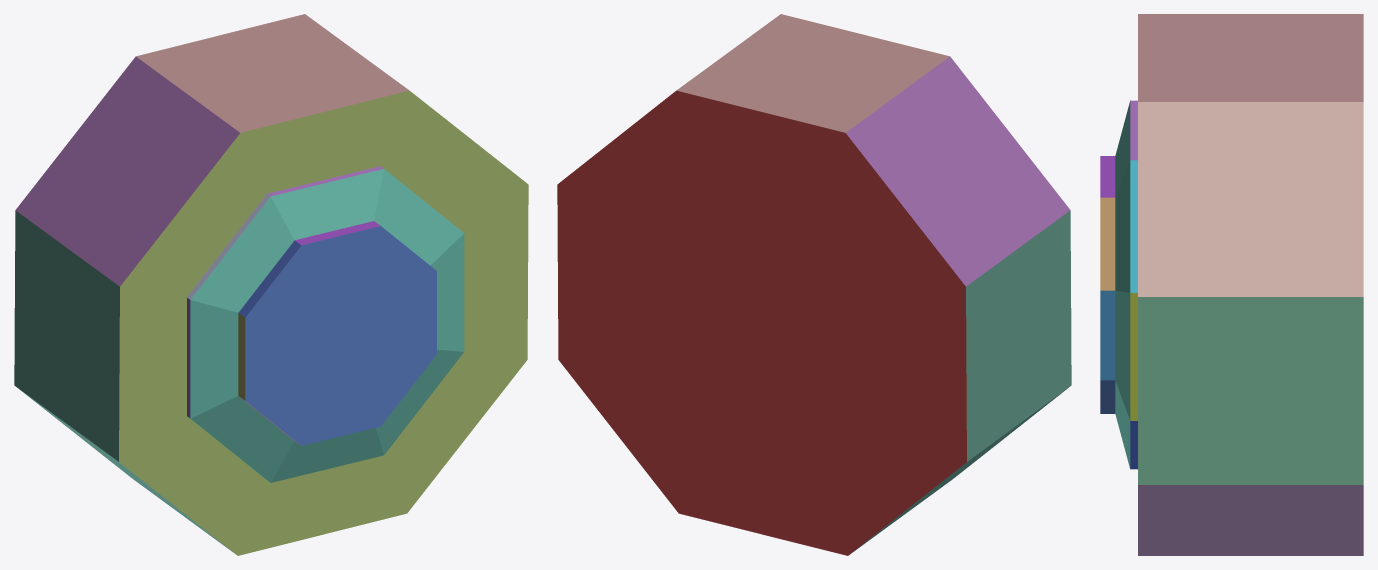
Rendered from module-stagger-01.glb.
3 renders of one model, left to right at view 1: azimuth 30°, elevation 25°; view 2: azimuth 150°, elevation 25°; view 3: azimuth 270°, elevation 25°, orthographic. The views are drawn at different scales.
Size of the model in its own units: 0.995 by 0.9831 by 0.5133.
